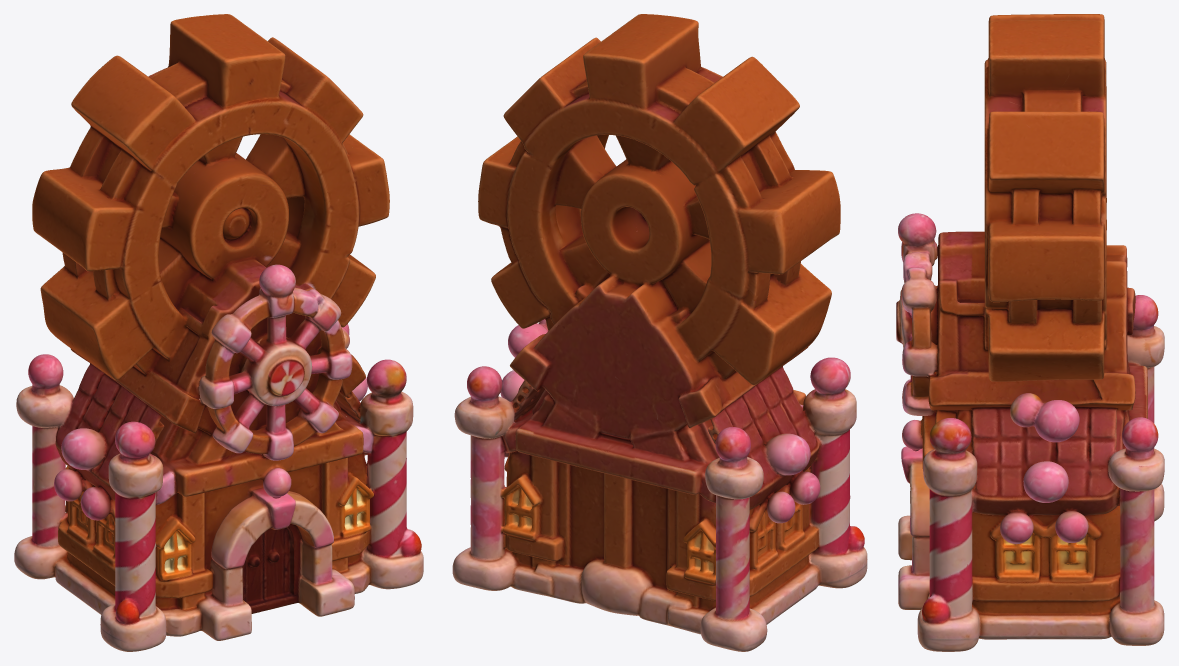
The model's file is Meshy_AI_Gingerbread_Mill_20261104_texture.fbx.
3 views of the same model, side by side, from view 1: azimuth 30°, elevation 25°; view 2: azimuth 150°, elevation 25°; view 3: azimuth 270°, elevation 25° (orthographic). The views are drawn at different scales.
Parts seen in each view (by area): view 1: Mesh_0; view 2: Mesh_0; view 3: Mesh_0.
Part boxes in pixels (left/top/right/bottom): Mesh_0: left=14, top=14, right=423, bottom=651; Mesh_0: left=452, top=14, right=867, bottom=651; Mesh_0: left=896, top=14, right=1164, bottom=651.
Size of the model in its own units: 115 by 190 by 84.04.
Materials: 1 (1 with a texture image).
